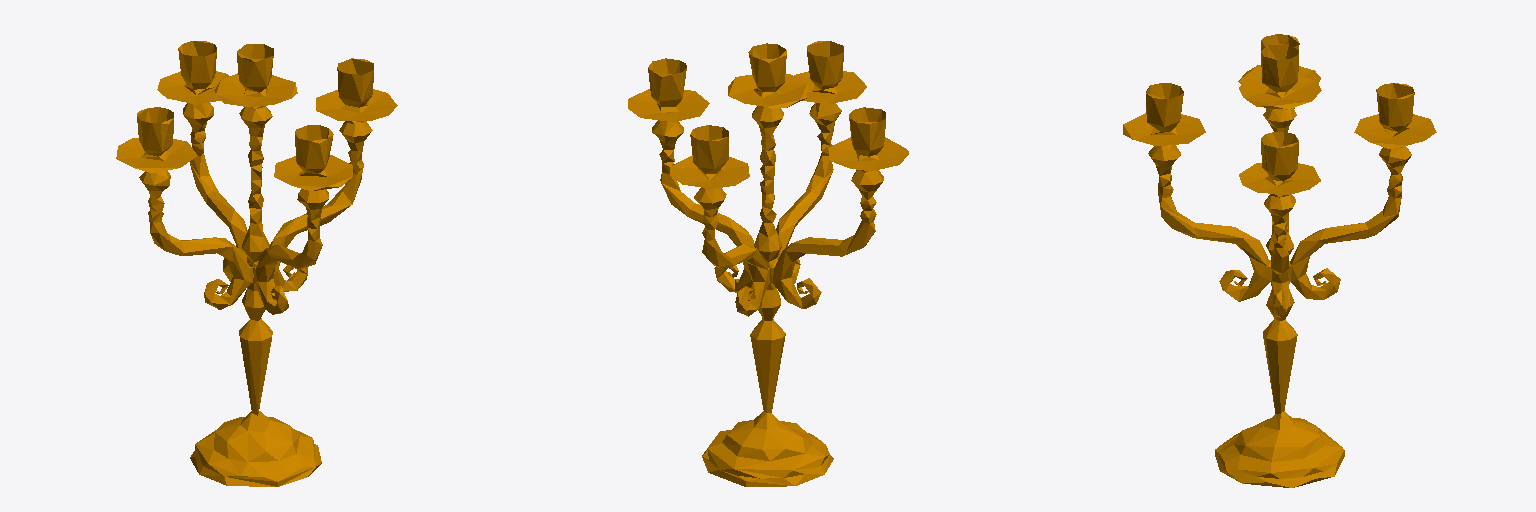
The model's file is Chandilier.obj.
3 views of the same model, side by side, from view 1: azimuth 30°, elevation 25°; view 2: azimuth 150°, elevation 25°; view 3: azimuth 270°, elevation 25° (orthographic).
Parts seen in each view (by area): view 1: Candelabra_Circle; view 2: Candelabra_Circle; view 3: Candelabra_Circle.
Boxes of the visible parts, box(x1,y1,x2,y2) form: Candelabra_Circle: box(116, 41, 397, 486); Candelabra_Circle: box(628, 41, 908, 486); Candelabra_Circle: box(1123, 34, 1436, 487).
Size of the model in its own units: 0.2686 by 0.3872 by 0.2688.